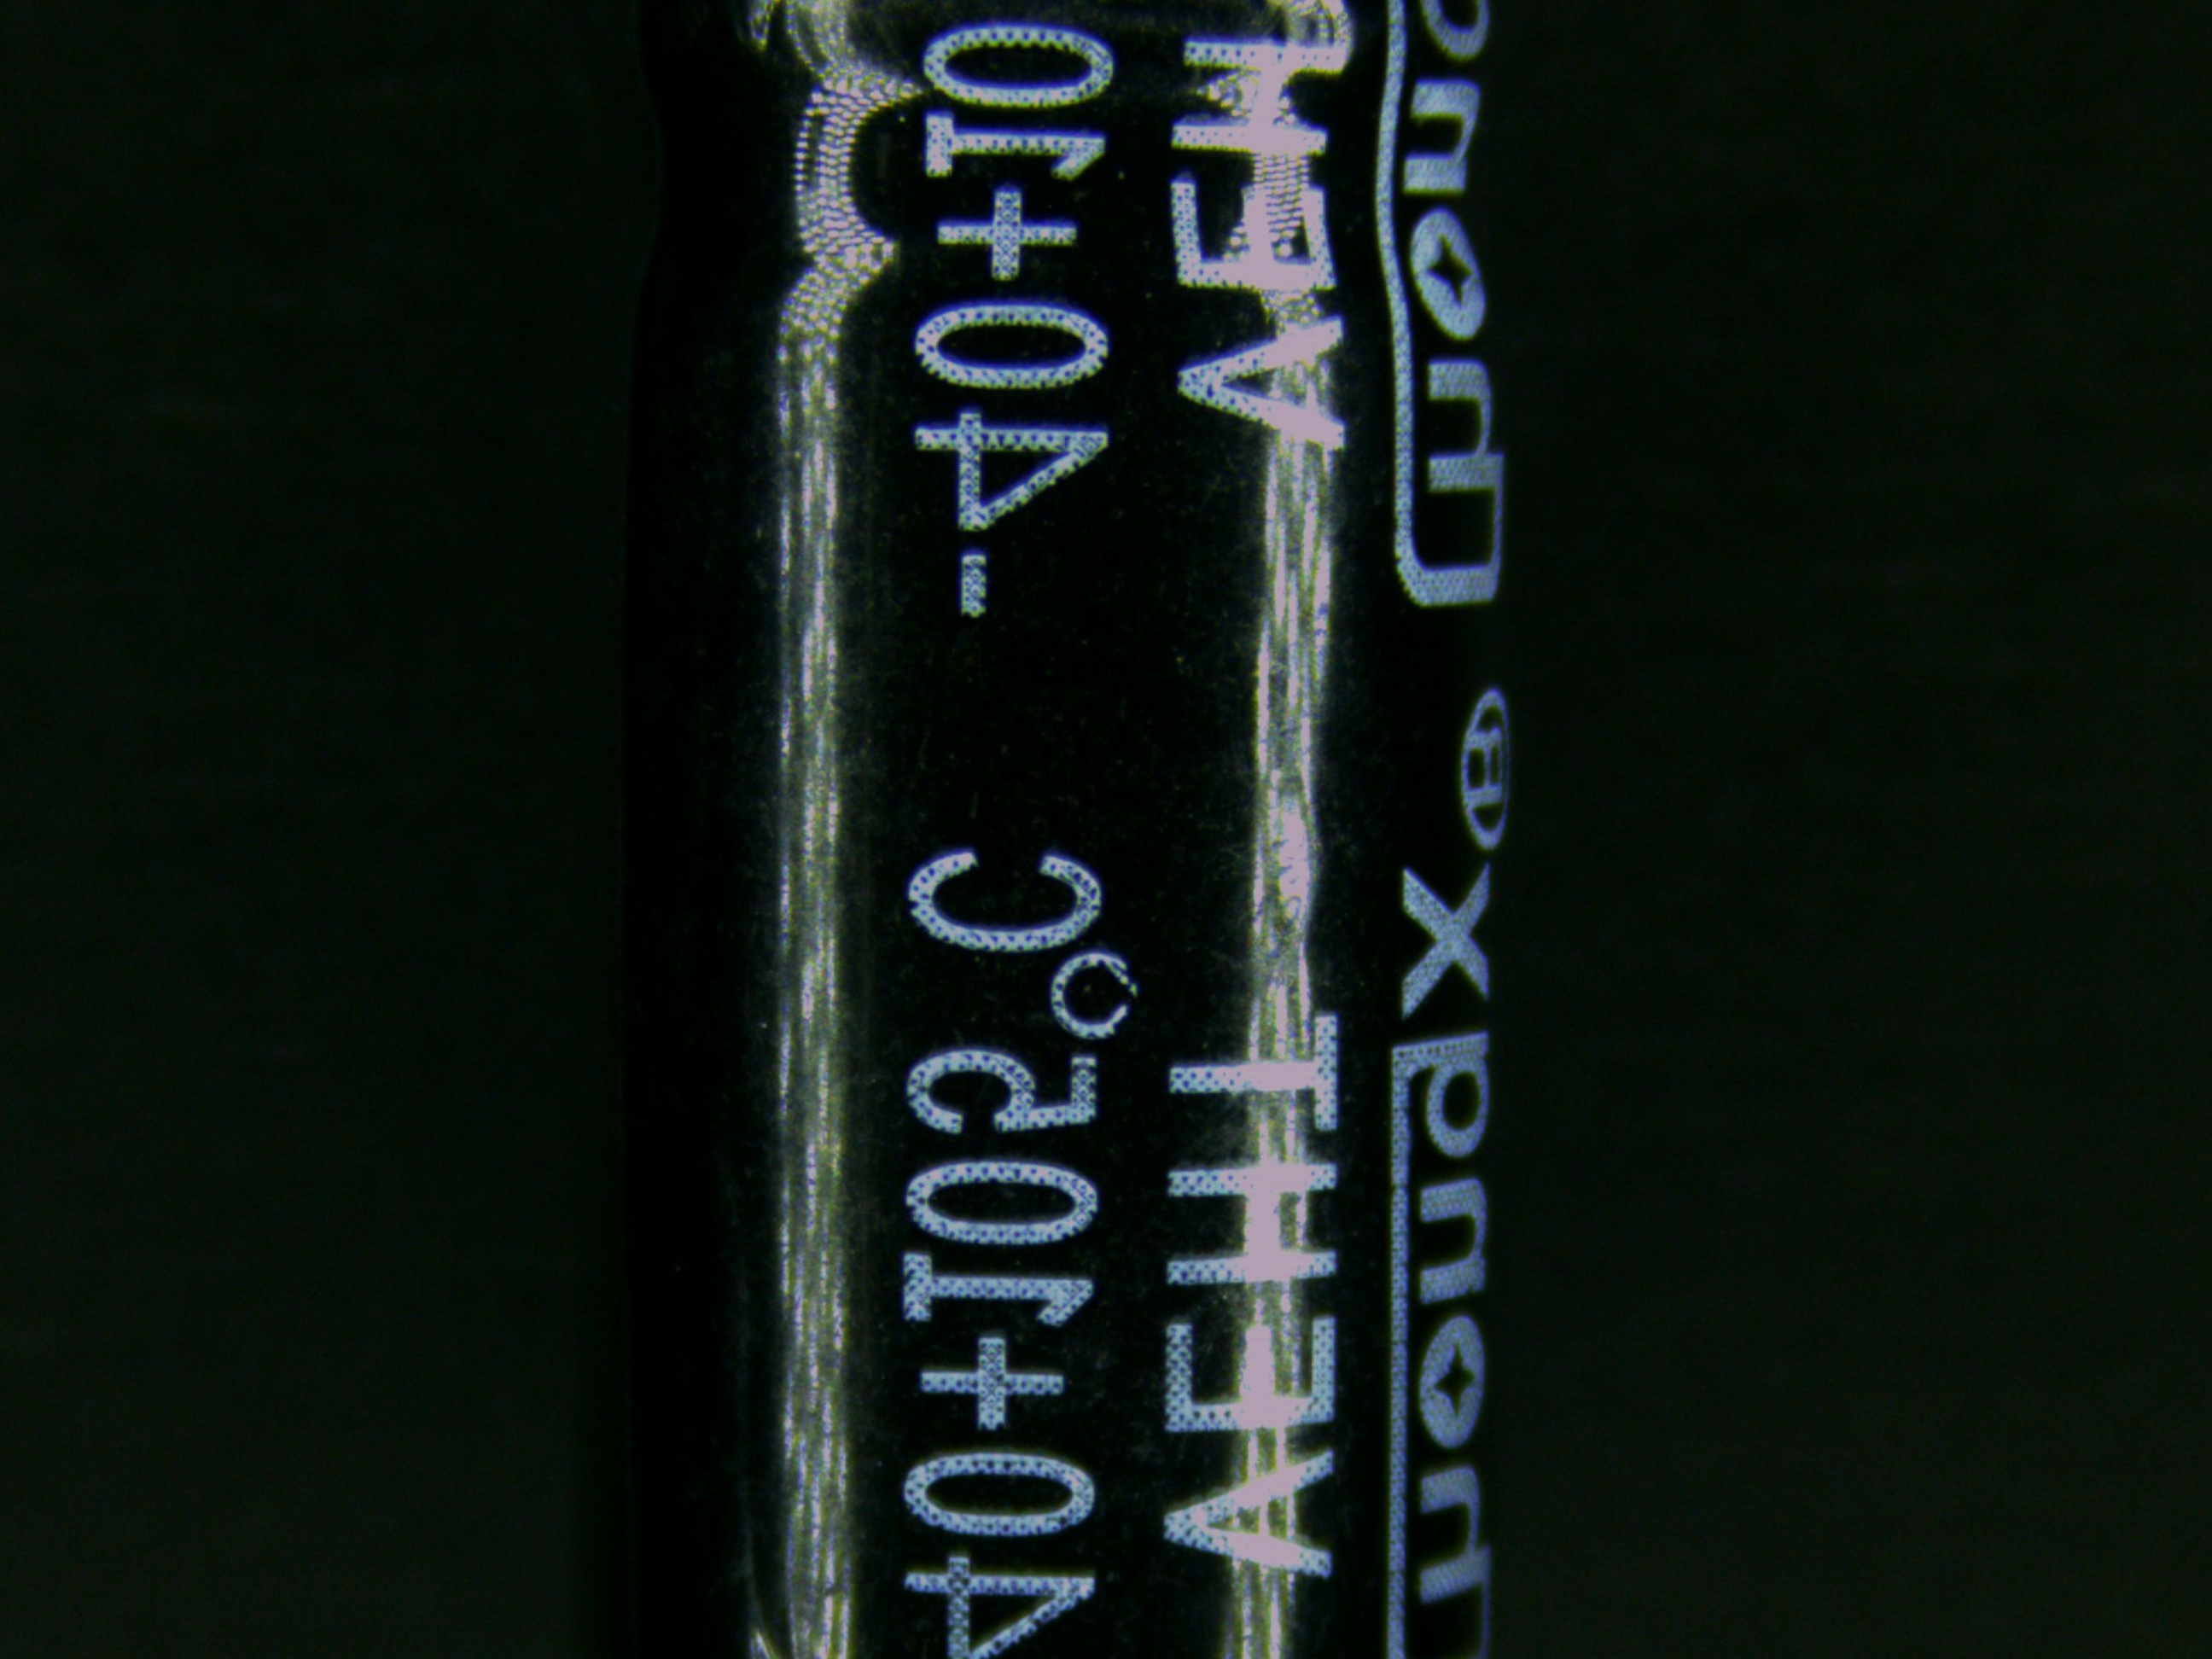c3: (583, 0, 1538, 1659)
